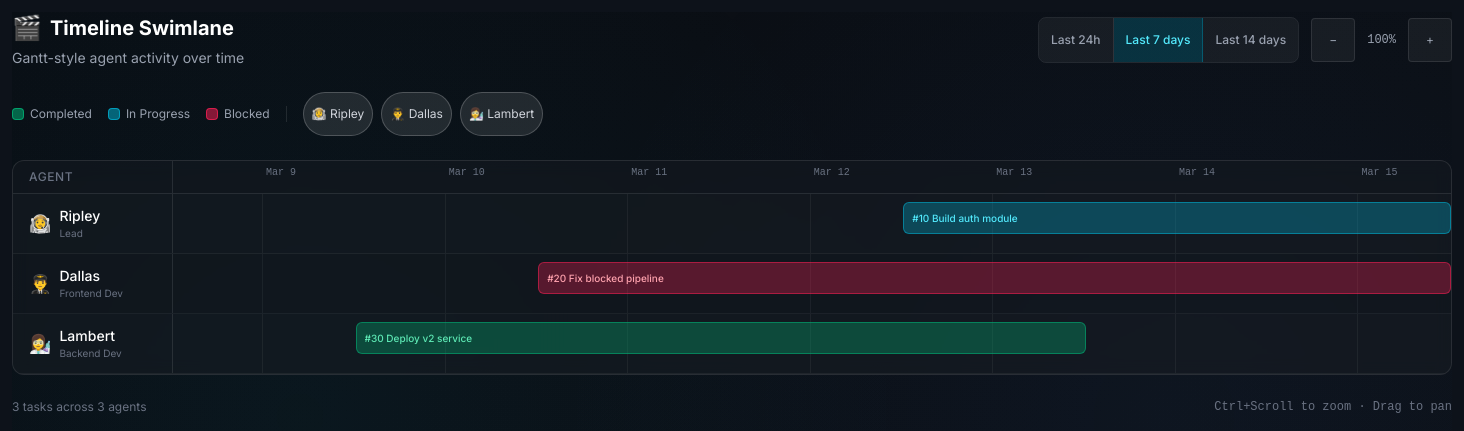
Test: TimelineSwimlane › shows message when all agents filtered
This screenshot has width=1464, height=431.
Click the button "🧑‍🚀 Ripley" at (338, 114), box [303,92,373,136]
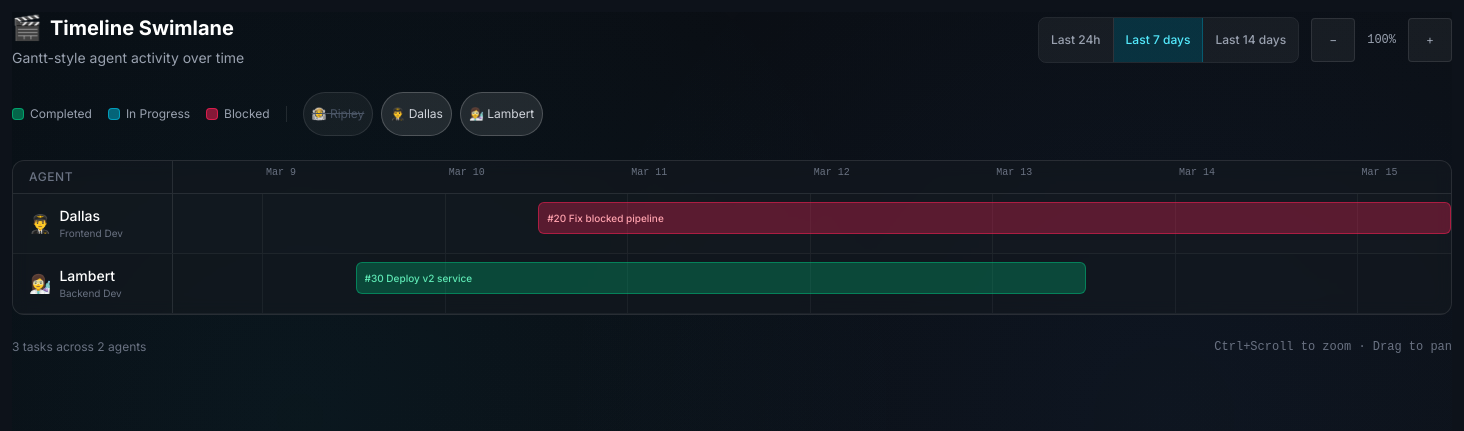
Click the button "👨‍✈️ Dallas" at (417, 114), box [381,92,452,136]
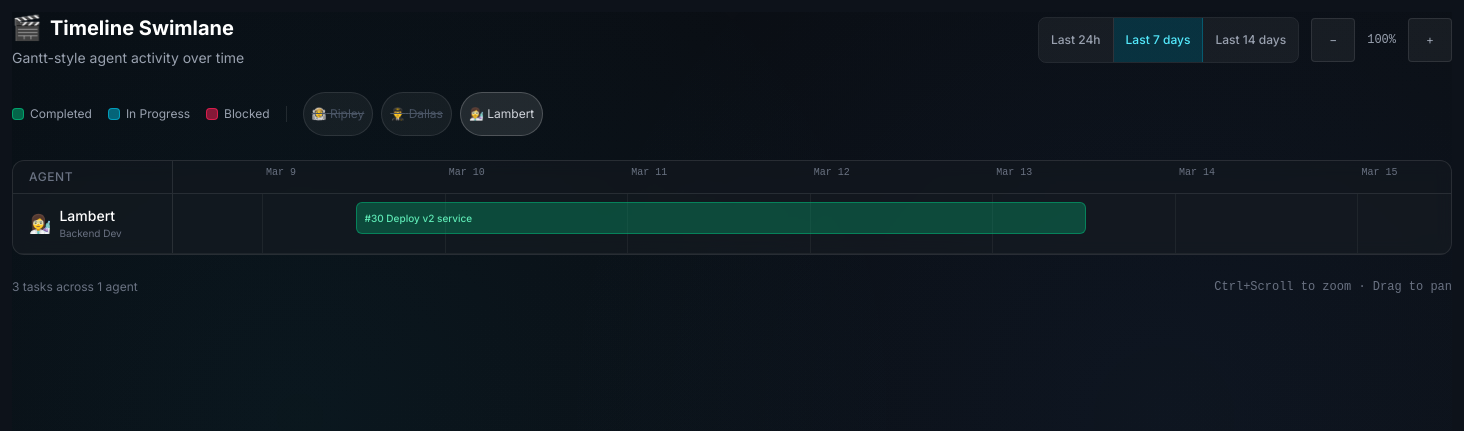
Click the button "👩‍🔬 Lambert" at (502, 114), box [460,92,543,136]
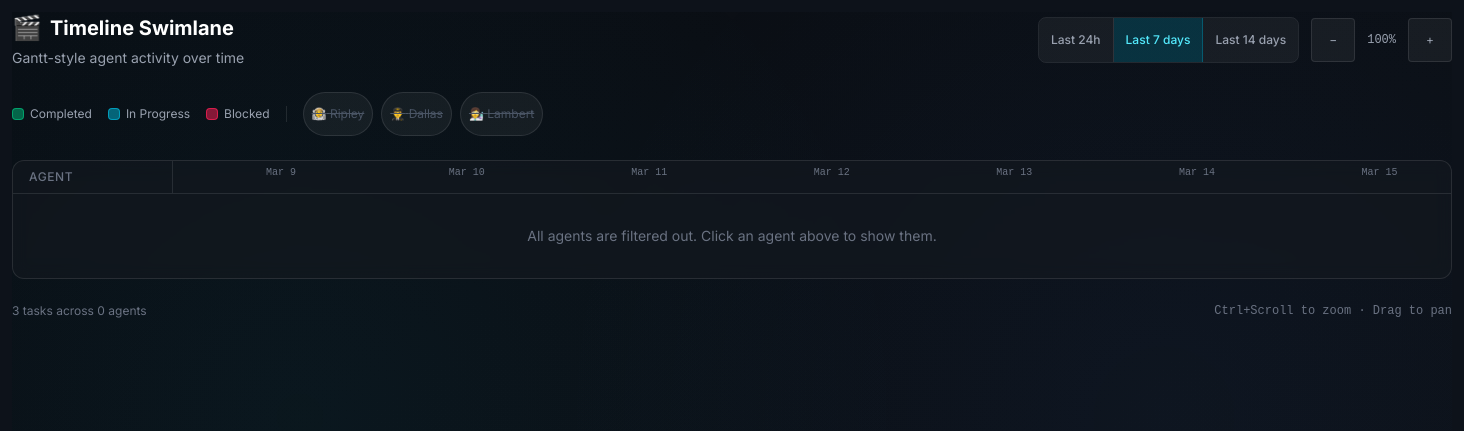
Expected: the text with test id "timeline-no-agents" is shown, [527,227,937,244]
